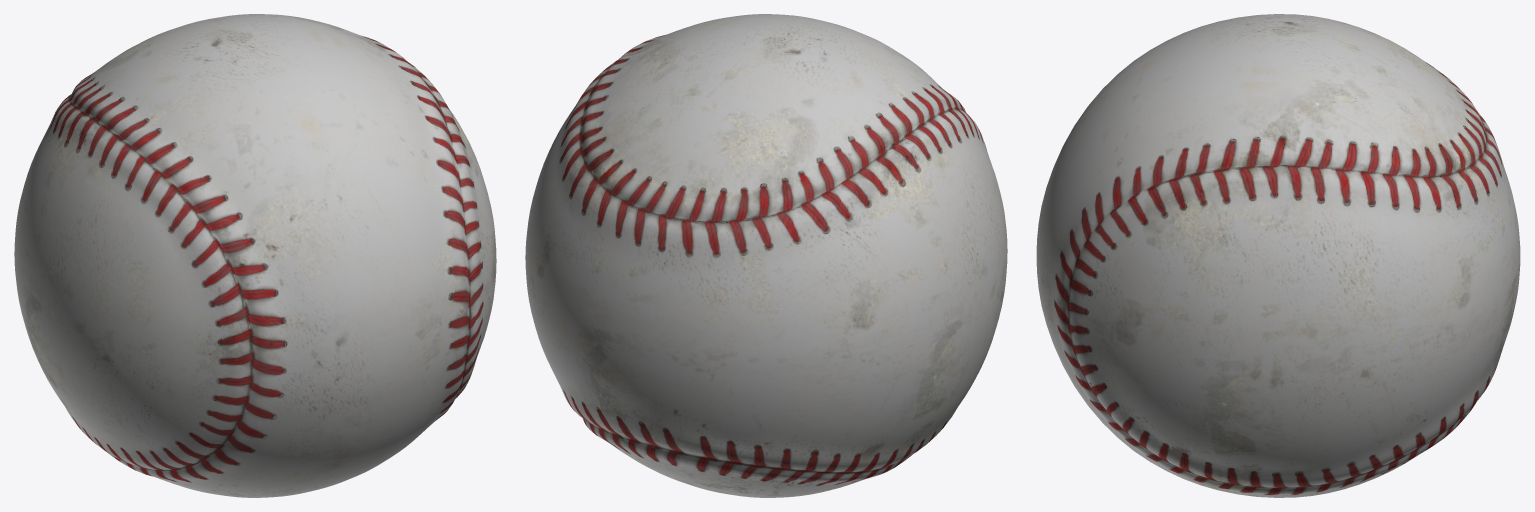
Rendered from baseball_01_2k.fbx.
The picture shows the model from 3 angles, left to right: view 1: azimuth 30°, elevation 25°; view 2: azimuth 150°, elevation 25°; view 3: azimuth 270°, elevation 25°; orthographic projection.
Visible parts, largest first — view 1: baseball_01; view 2: baseball_01; view 3: baseball_01.
Part boxes in pixels (box(x1,y1,x2,y2)): baseball_01: box(14, 14, 496, 497); baseball_01: box(525, 14, 1007, 497); baseball_01: box(1036, 14, 1520, 497).
Bounding box in the file's own units: 0.0735 × 0.0753 × 0.0752.
Materials: 1 (1 with a texture image).
